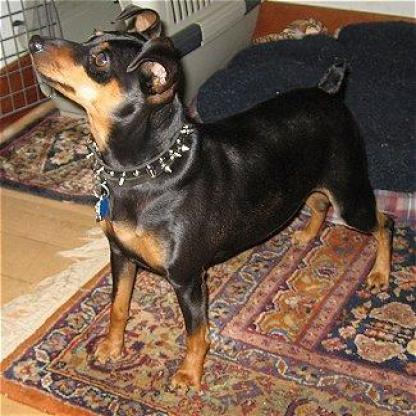miniature_pinscher: (28, 4, 393, 396)
